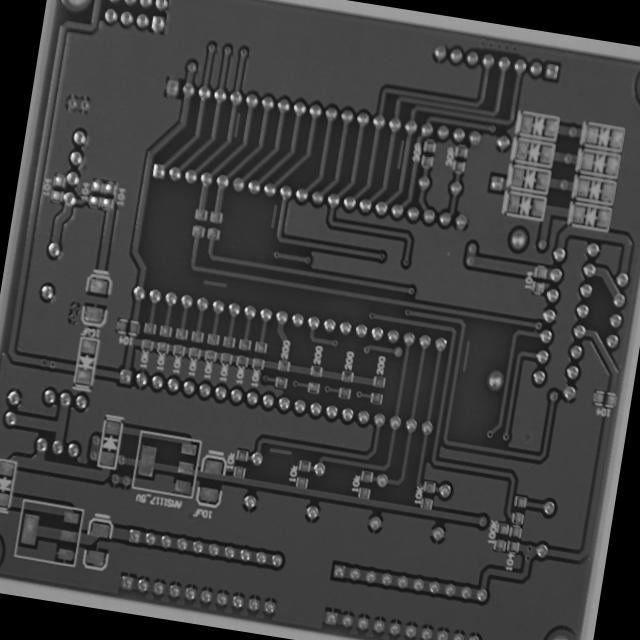spurious_copper: (199, 272, 230, 294), (458, 336, 474, 376), (266, 441, 295, 461), (392, 136, 408, 172), (265, 199, 282, 232), (230, 109, 246, 141)
